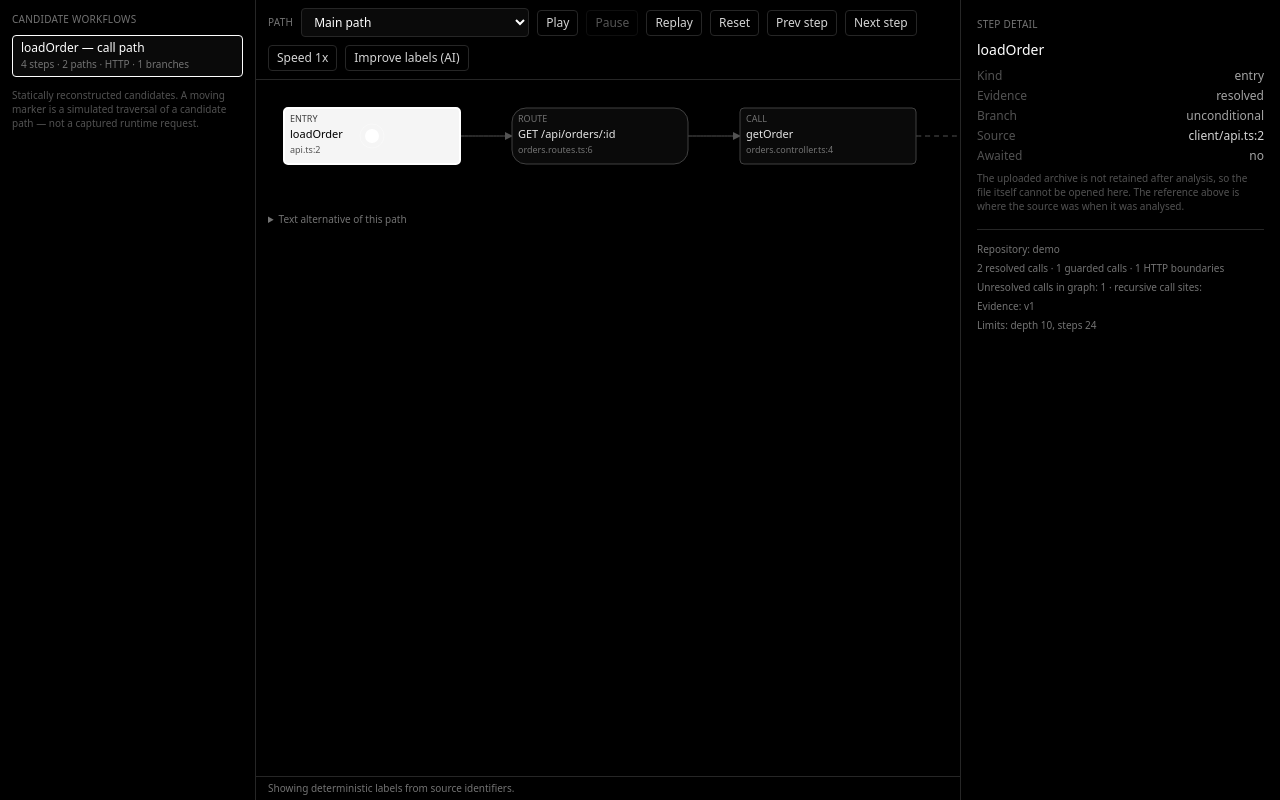
Test case: CoremationView › shows AI wording as a separate, attributed label
The image size is (1280, 800).
Expected: the text "loadOrder — call path" is shown, [21,39,145,56]
Click the button "Improve labels (AI)": (407, 58) [345,45,469,71]
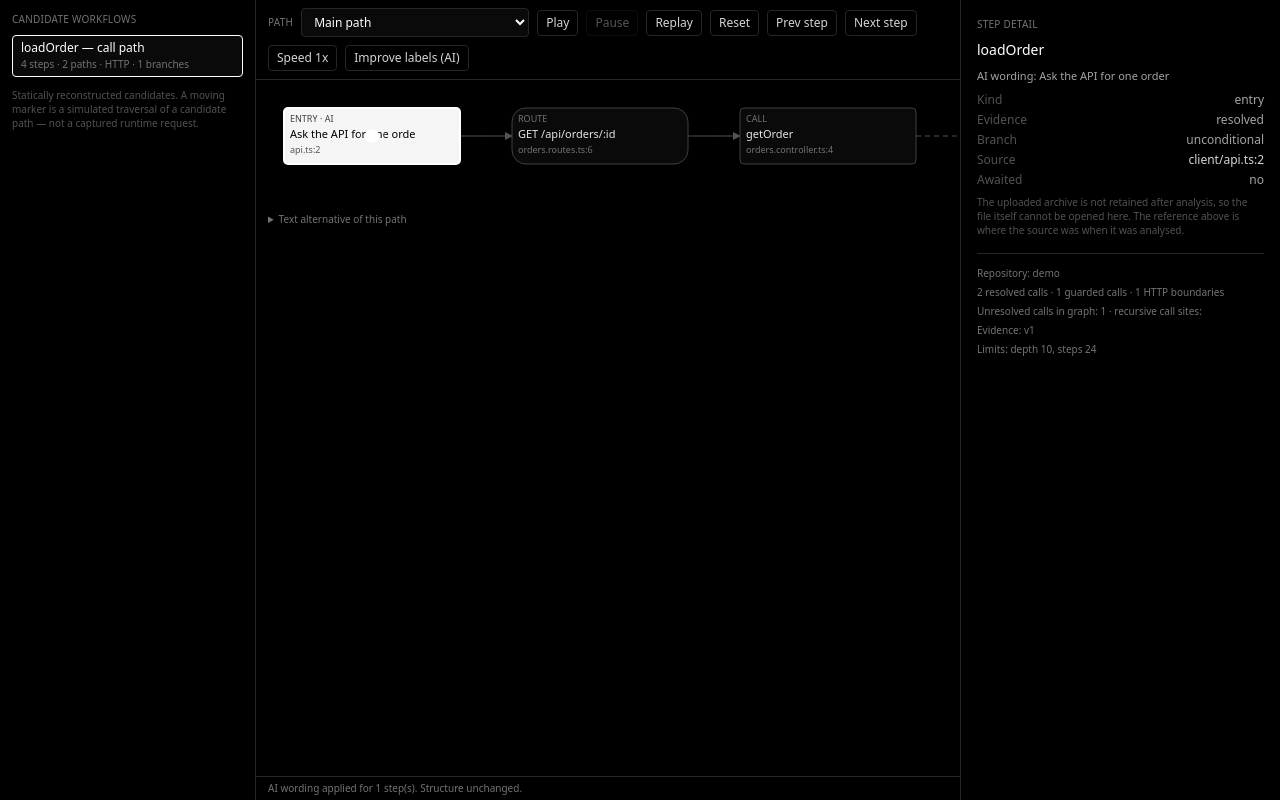
Expected: the text "loadOrder" is shown, [977,40,1044,59]
Now the text "AI wording applied for 1 step(s). Structure unchanged." is shown, box [256,776,960,799]
